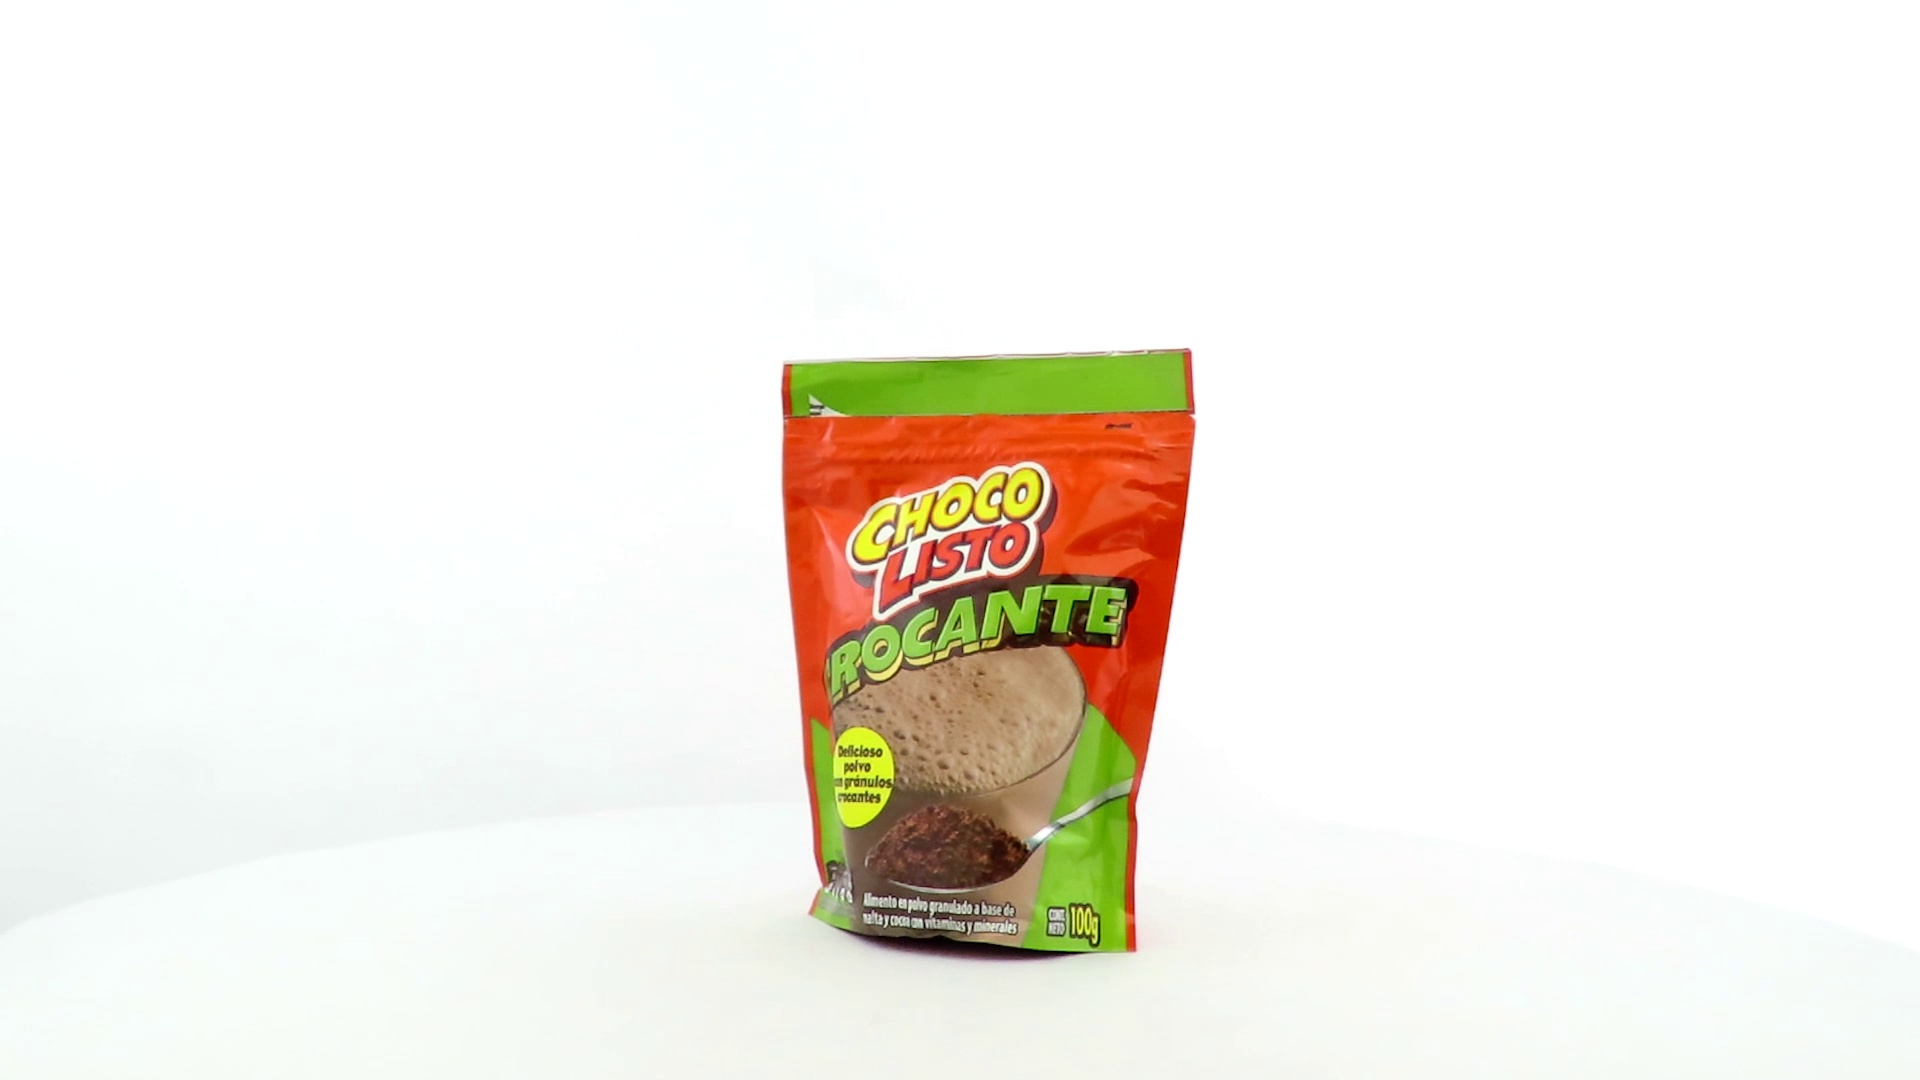COL0170102DYP10000: (775, 343, 1203, 967)
